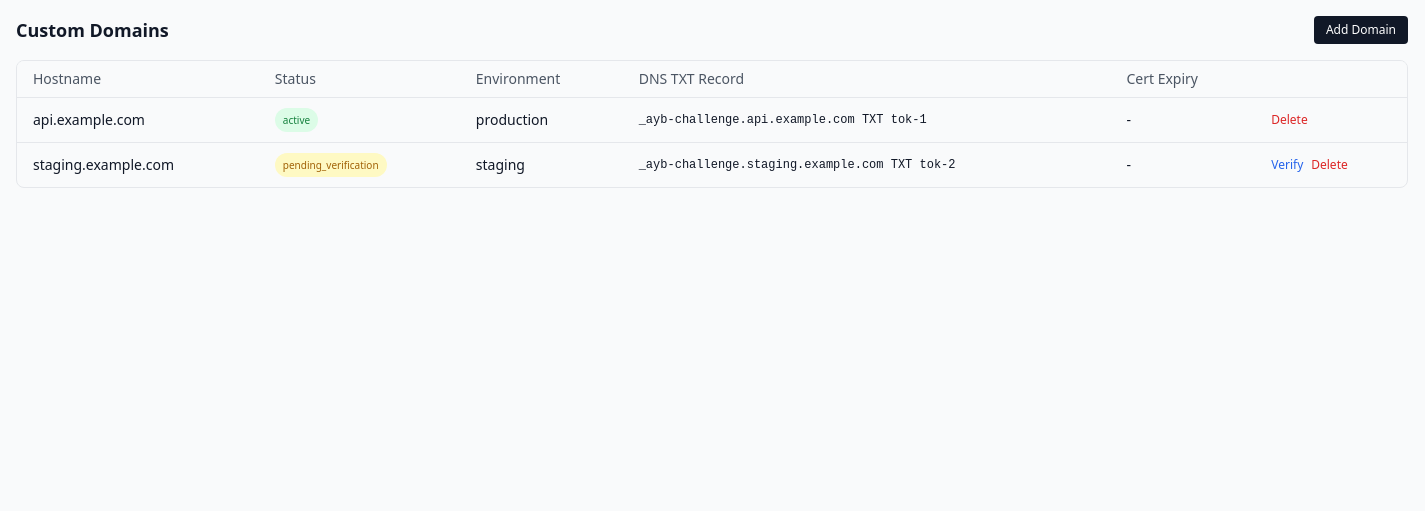
CustomDomains › validates hostname in create form
Check: the text "api.example.com" is shown, box [17, 98, 259, 142]
Click the button "Add Domain".
click(1361, 30)  # box [1314, 16, 1408, 44]
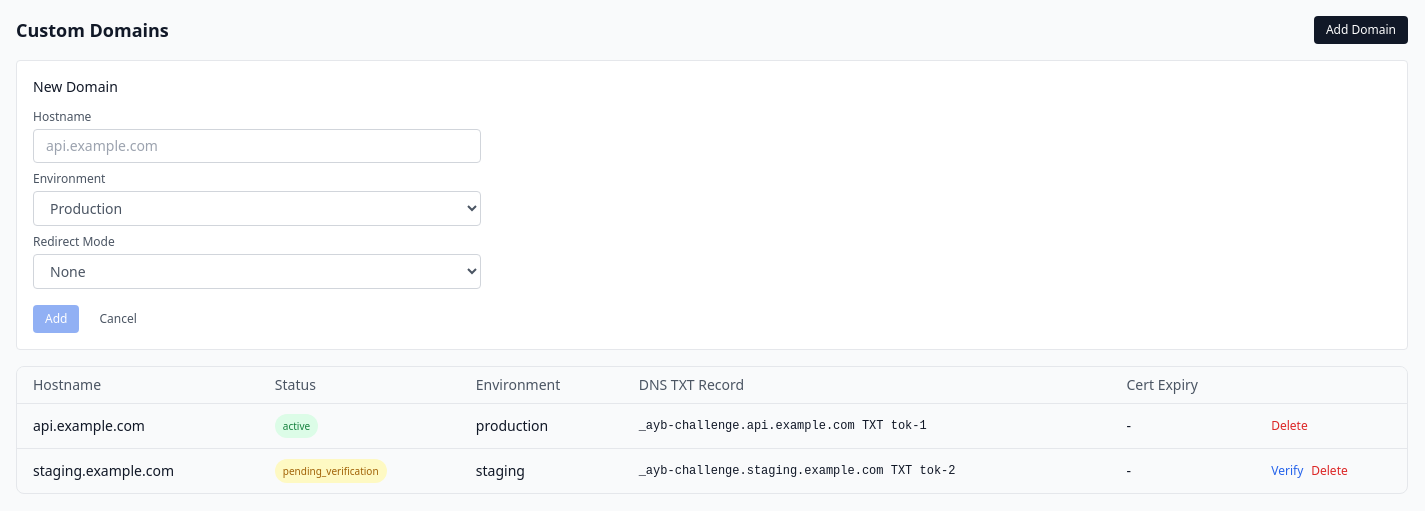
Check: the button "Add" is disabled, box [33, 305, 79, 333]
